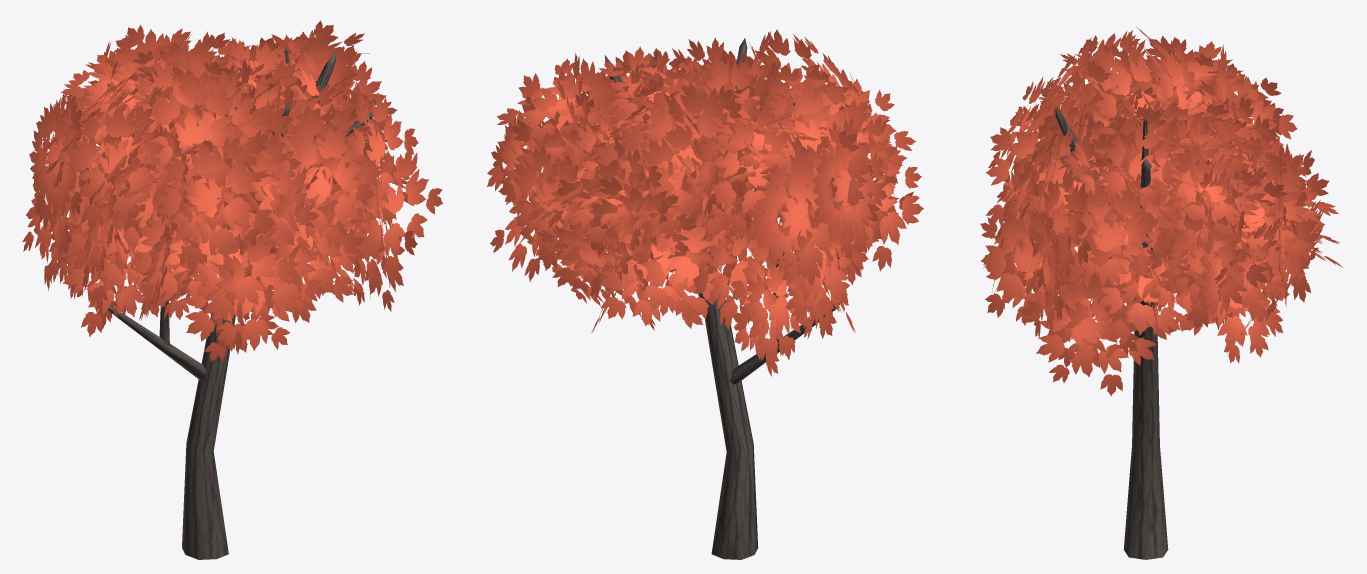
File: MapleTree_4.glb
The picture shows the model from 3 angles, left to right: view 1: azimuth 30°, elevation 25°; view 2: azimuth 150°, elevation 25°; view 3: azimuth 270°, elevation 25°; orthographic projection. The views are drawn at different scales.
Bounding box in the file's own units: 2.77 × 3.59 × 2.44.
Materials: 2 (2 with a texture image).
